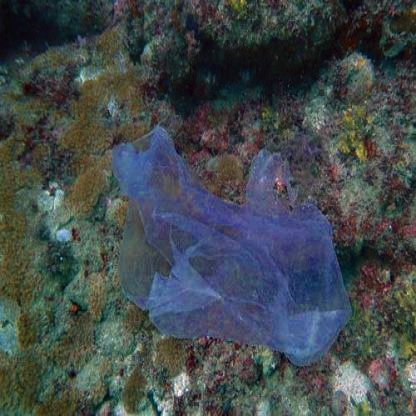pbag: (102, 124, 357, 372)
